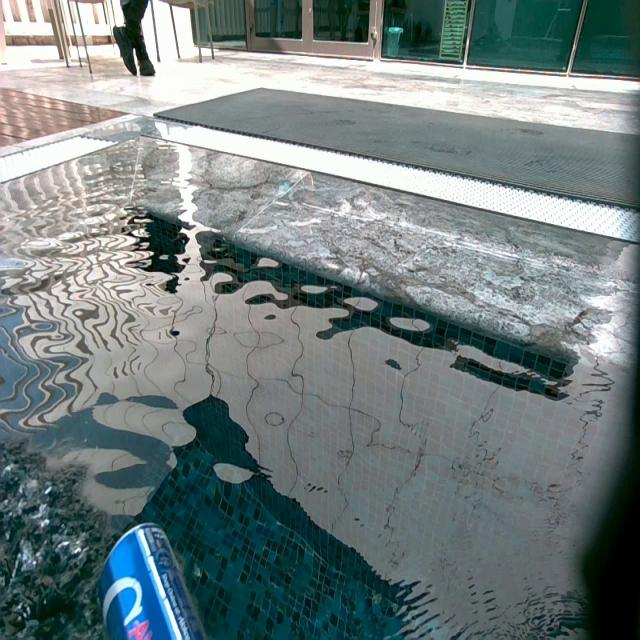Cans: (93, 521, 206, 640)
